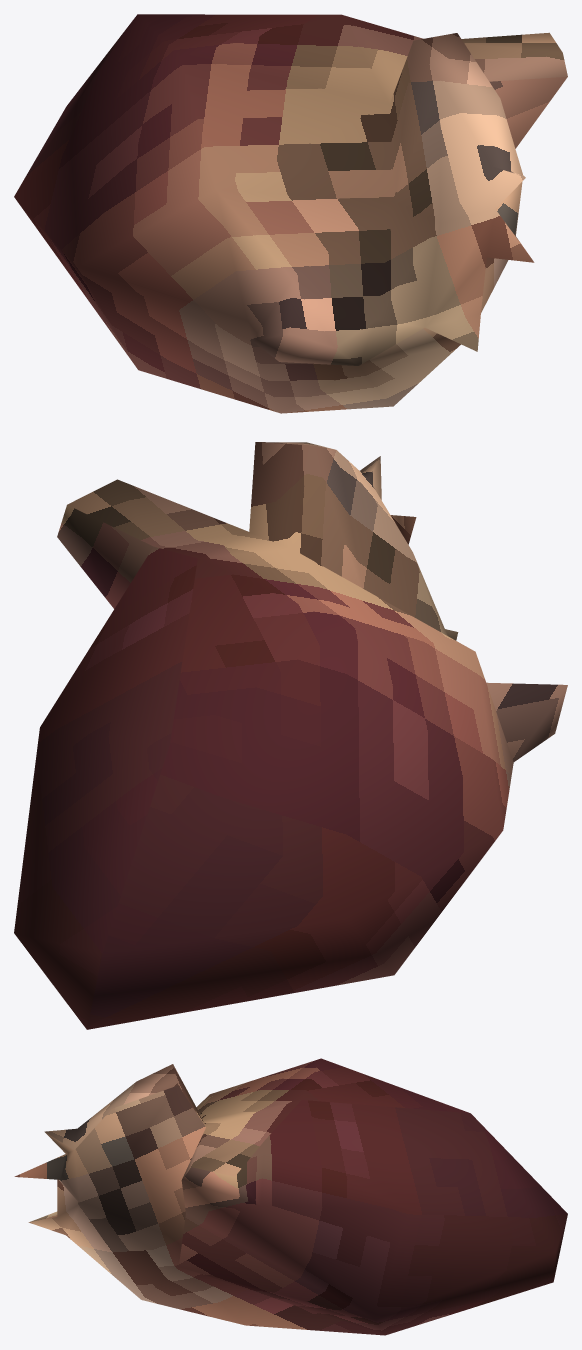
File: corazon.obj
3 views of the same model, one above another, from view 1: azimuth 30°, elevation 25°; view 2: azimuth 150°, elevation 25°; view 3: azimuth 270°, elevation 25° (orthographic). The views are drawn at different scales.
Visible parts, largest first — view 1: MinosPrime_Heart_001_0; view 2: MinosPrime_Heart_001_0; view 3: MinosPrime_Heart_001_0.
Boxes of the visible parts, <box> form: MinosPrime_Heart_001_0: <box>14,14,567,413</box>; MinosPrime_Heart_001_0: <box>14,442,567,1029</box>; MinosPrime_Heart_001_0: <box>14,1058,567,1335</box>.
Size of the model in its own units: 0.0518 by 0.044 by 0.077.
Materials: 1 (1 with a texture image).
